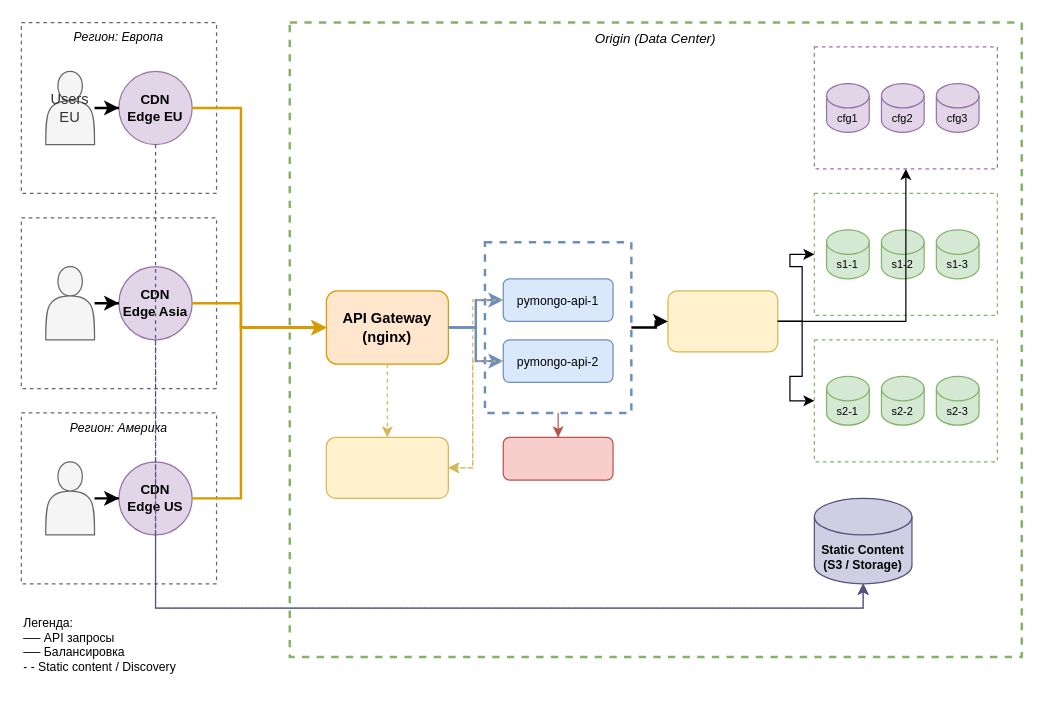
This 1044x714 diagram has some shape labels left out. Here are the shapes that lost their labels. From the top down, the box of each, then its label:
(813, 46, 997, 169): Config Server RS
(813, 192, 997, 315): Shard 1 RS
(45, 265, 95, 340): Users Asia
(20, 217, 217, 389): Регион: Азия
(667, 290, 778, 352): mongos_router
(483, 240, 632, 414): Application Instances
(813, 339, 997, 462): Shard 2 RS
(325, 436, 448, 498): Consul (Service Discovery)
(502, 436, 613, 480): redis
(45, 461, 95, 535): Users US
